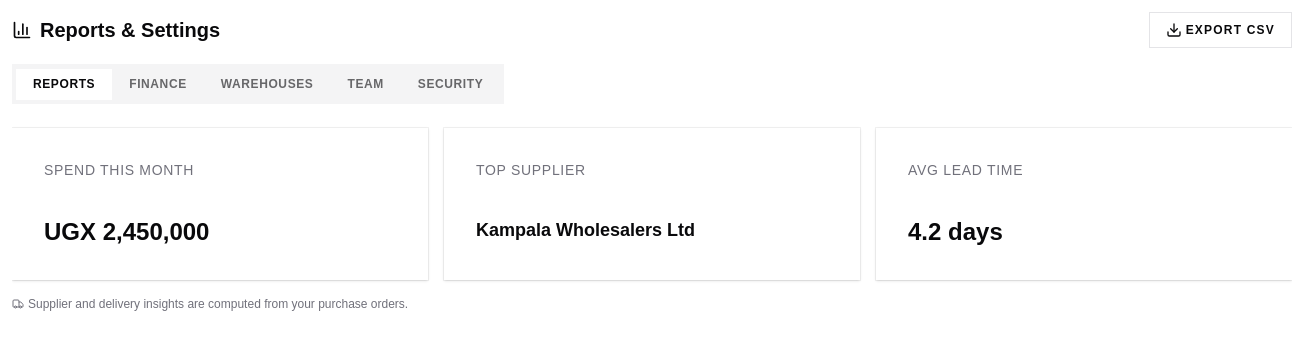
Test: ReportsPage › switches to finance tab and shows valuation
Step 1. Click the tab "Finance" → (158,84), box [112,68,204,100]
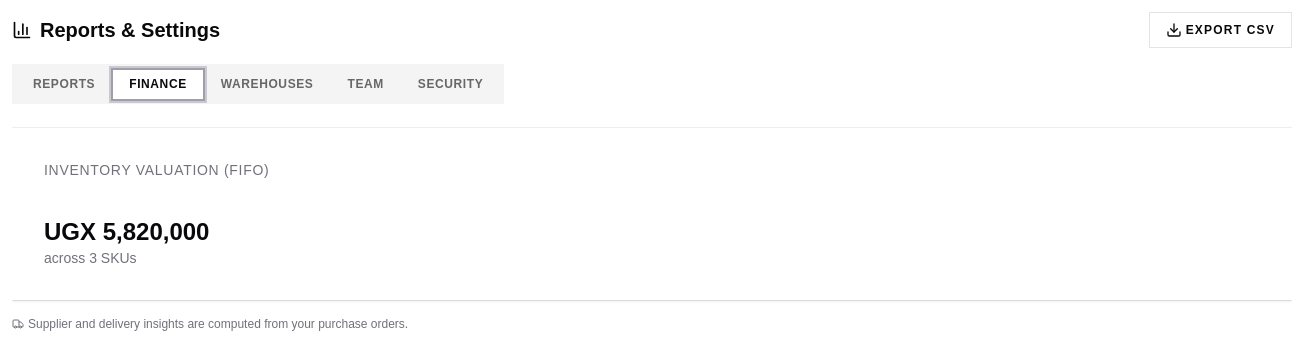
Now the text "UGX 5,820,000" is shown, box [44,218,210,245]
